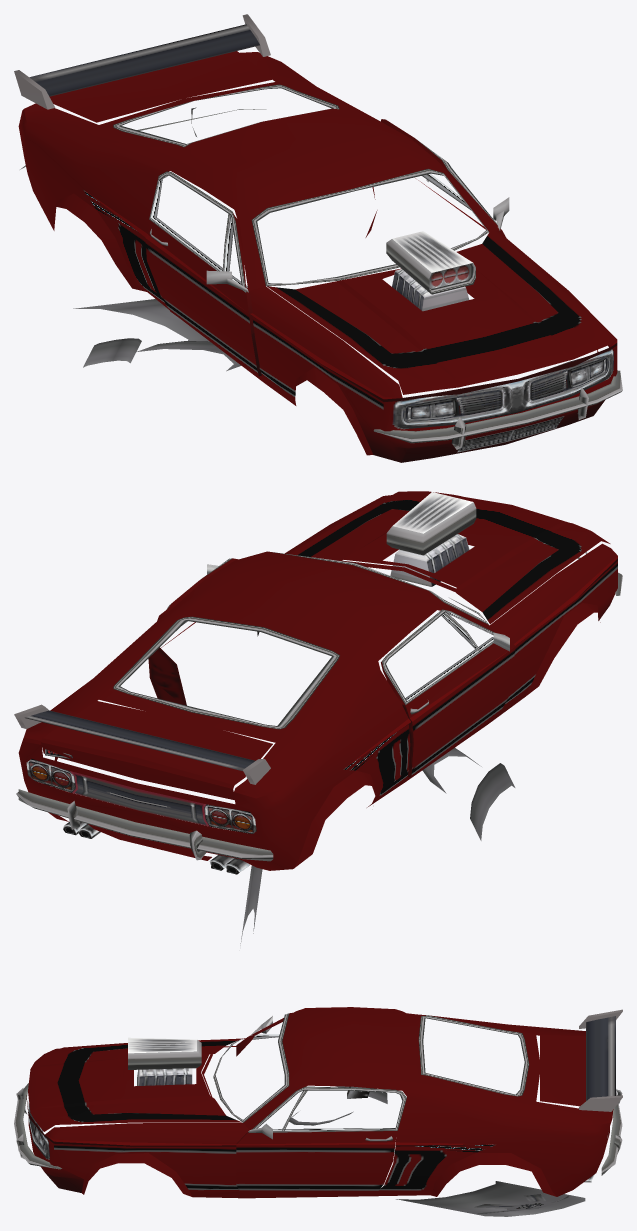
File: car-MSCL_Car1.glb
3 views of the same model, one above another, from view 1: azimuth 30°, elevation 25°; view 2: azimuth 150°, elevation 25°; view 3: azimuth 270°, elevation 25° (orthographic). The views are drawn at different scales.
Visible parts, largest first — view 1: MSCL_Car1; view 2: MSCL_Car1; view 3: MSCL_Car1.
Part boxes in pixels (left/top/right/bottom): MSCL_Car1: left=14, top=14, right=622, bottom=462; MSCL_Car1: left=14, top=491, right=622, bottom=945; MSCL_Car1: left=14, top=1007, right=622, bottom=1216.
Bounding box in the file's own units: 2.52 × 1.79 × 4.83.
Materials: 10 (10 with a texture image).
